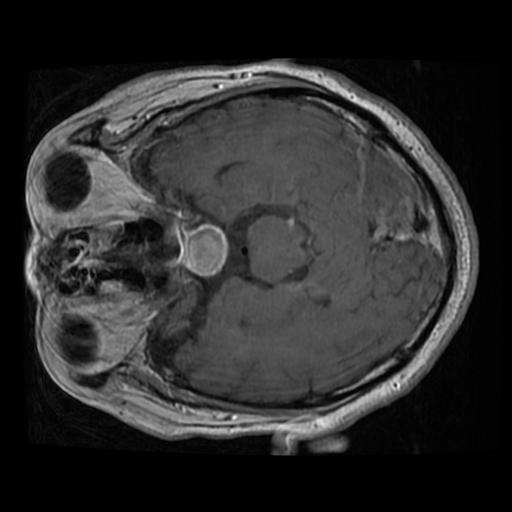pituitary tumour: (184, 224, 226, 278)
